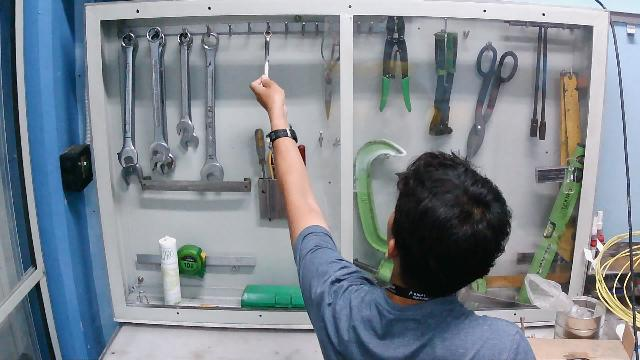kunci_pass_13: (244, 20, 293, 101)
